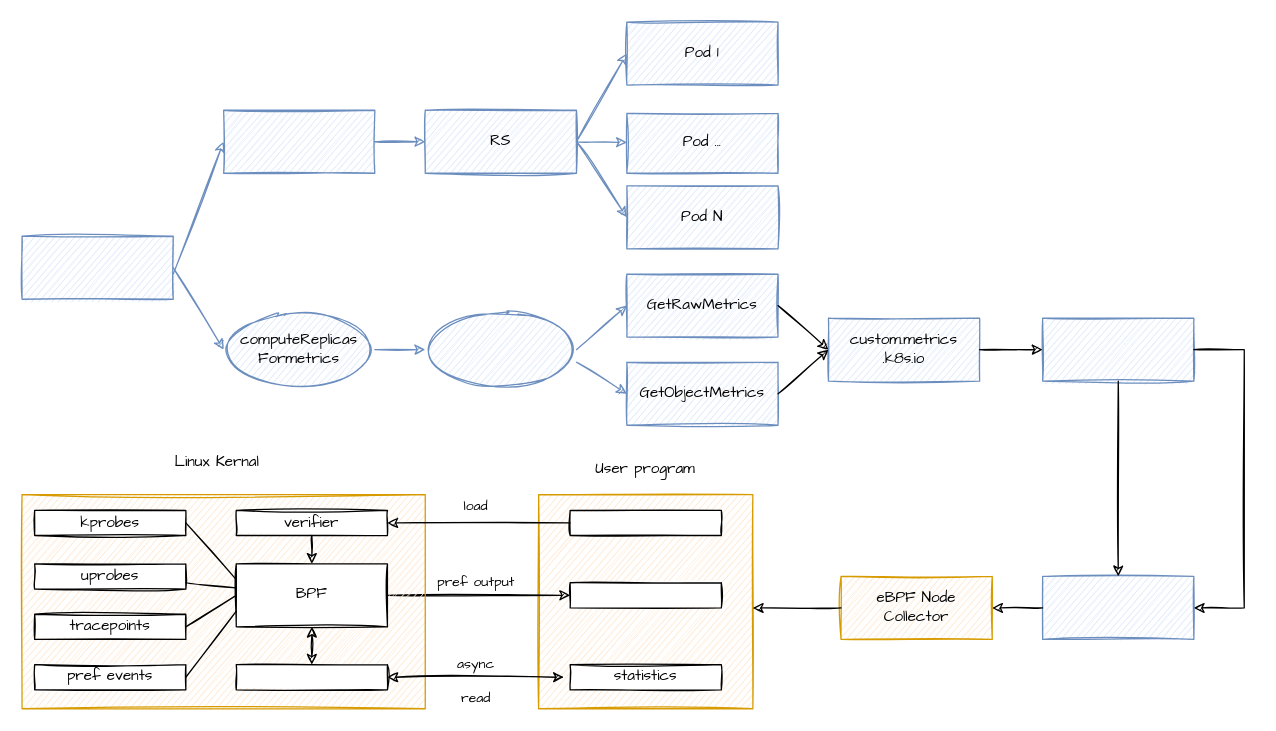
Image size: 1276x731. Some labels were removed from this diagram. Here are the shapes that lost their labels. From the top down, the box of each, then its label:
(222, 109, 375, 173): Deployment
(21, 235, 173, 299): HPA Controller
(424, 311, 576, 387): Metrics client
(1041, 317, 1194, 381): Custom API Server
(569, 509, 721, 536): BPF byte code
(569, 581, 721, 608): per event data
(1041, 575, 1194, 639): eBPF Cluster Collector
(235, 663, 387, 690): maps
